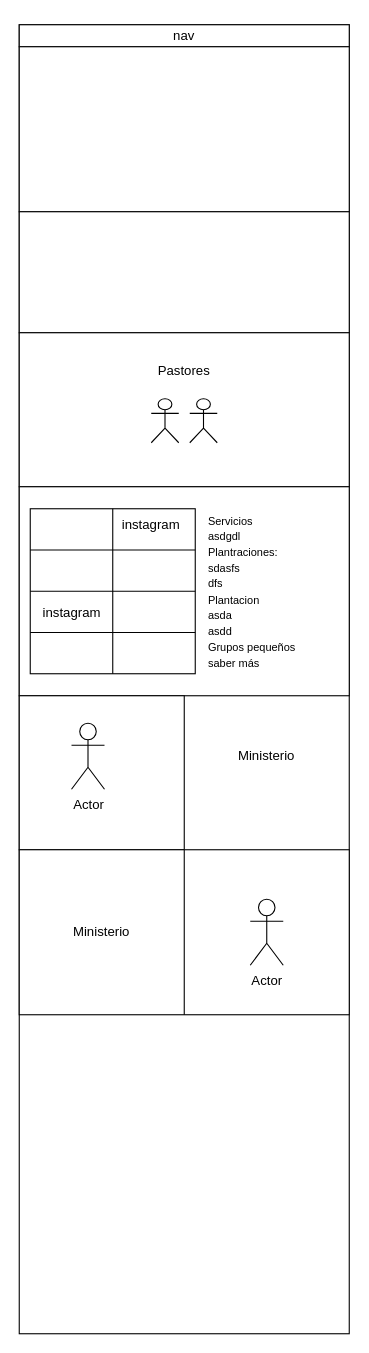
Image size: 369x1353. Some labels were removed from this diagram. The shapes that lost their labels are listed below. From the top down, each one's centre as x and y in pixels, then its label:
At (x=183, y=129): "Portada".
At (x=183, y=272): "Vision".
